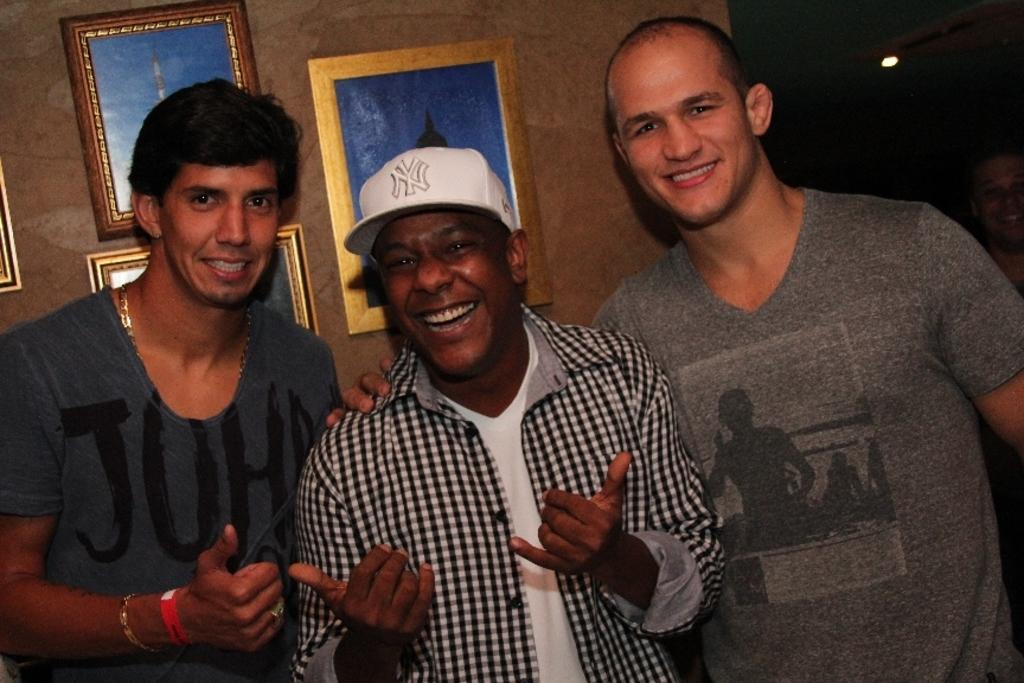Hat: (342, 142, 519, 262)
